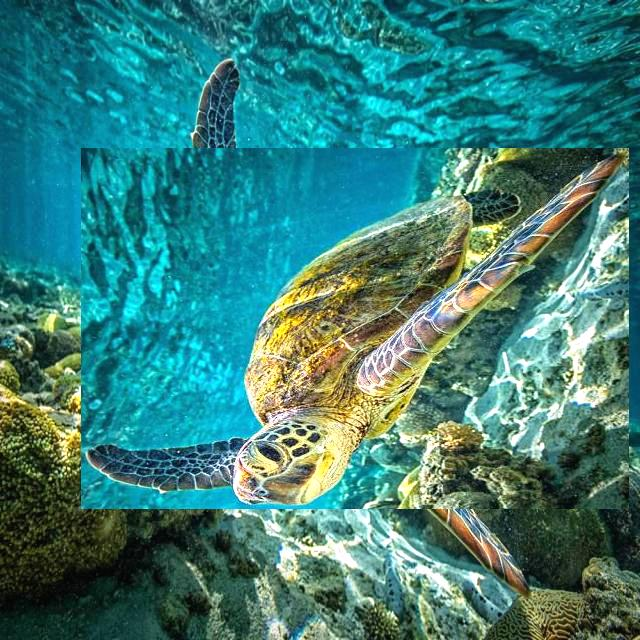Sea turtle: (128, 101, 582, 555)
